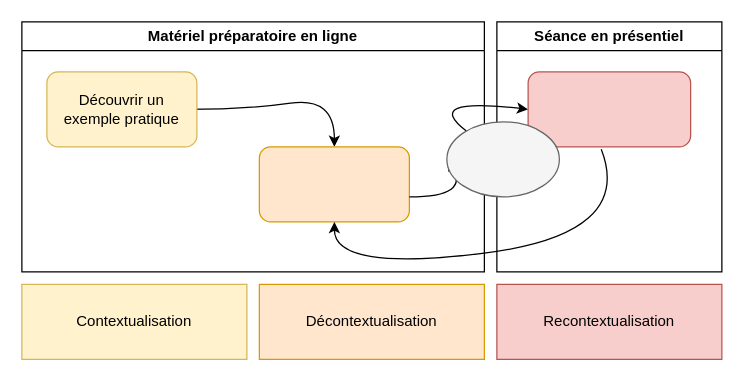
Image size: 744x381. Some labels were removed from this diagram. The centre of each missing label's shape, as x and y in pixels:
"Appliquer sur d'autres données" goes at point (609, 109).
"Poser des questions" goes at point (502, 159).
"Étudier la théorie (statistiques)" goes at point (333, 184).
